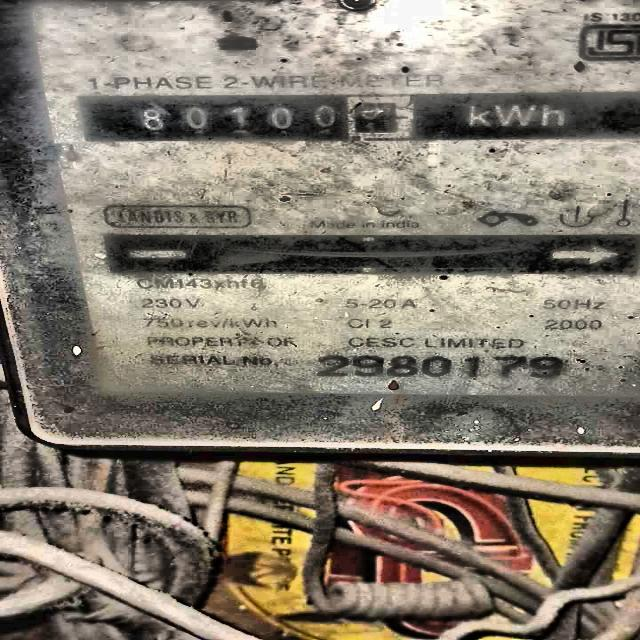Analog: (4, 2, 640, 468)
Reading: (112, 98, 433, 140)
Serial No.: (310, 354, 568, 380)
